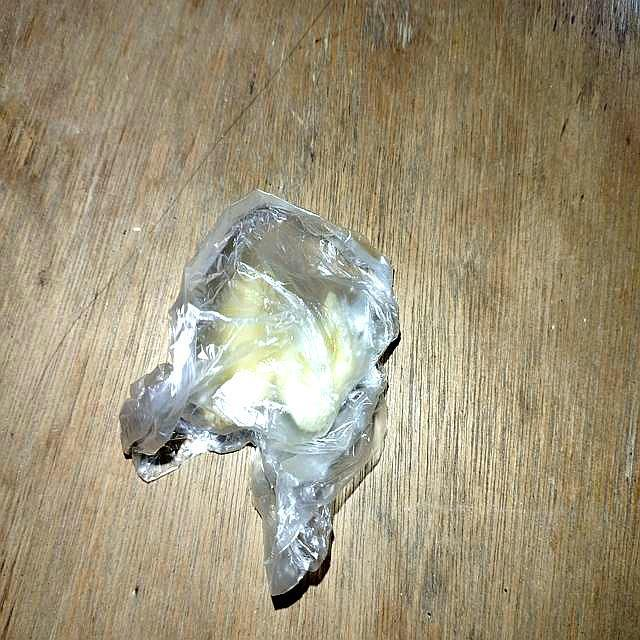Non-biodegradable: (118, 187, 404, 599)
